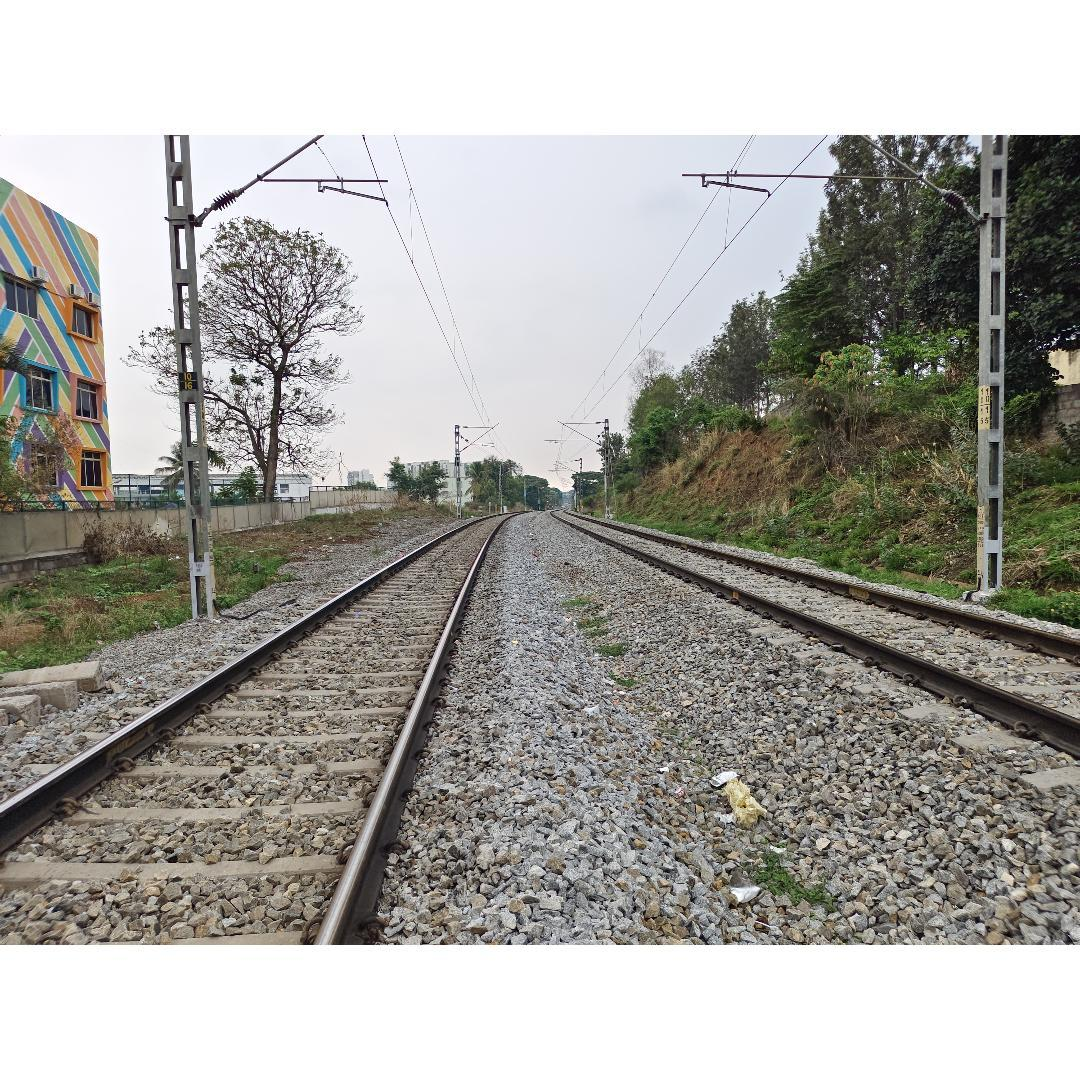track: (0, 495, 527, 945)
